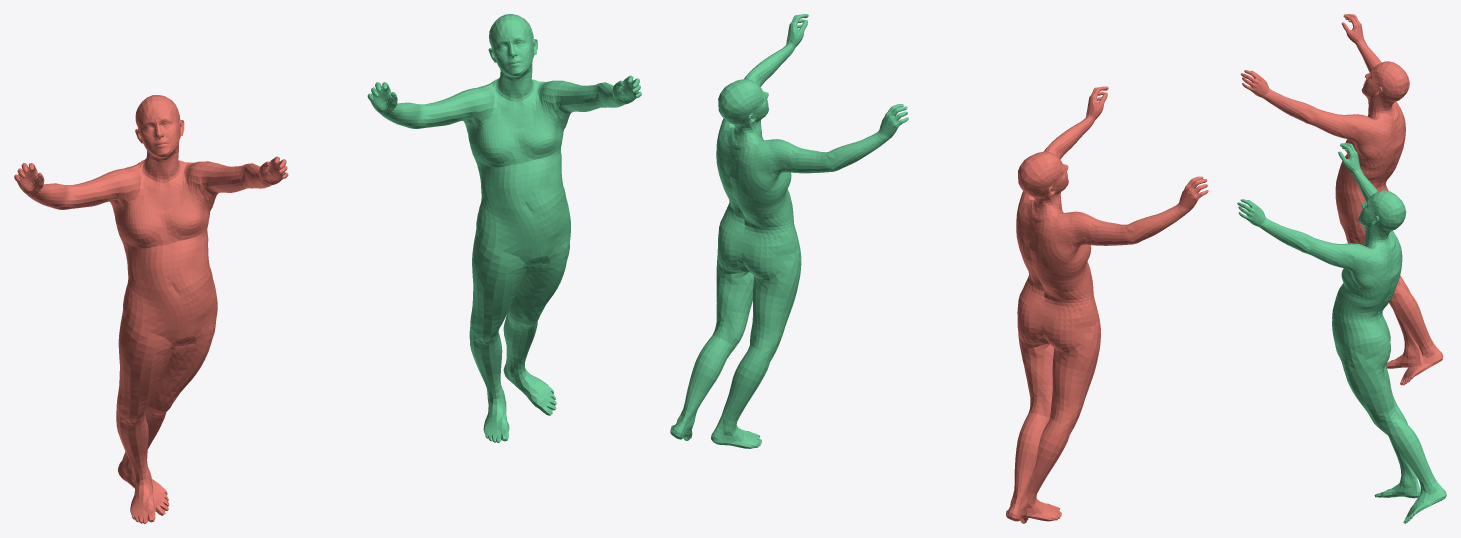
File: pose_422_before_after.glb
3 views of the same model, side by side, from view 1: azimuth 30°, elevation 25°; view 2: azimuth 150°, elevation 25°; view 3: azimuth 270°, elevation 25° (orthographic). The views are drawn at different scales.
Parts seen in each view (by area): view 1: poseshield_green, input_red; view 2: poseshield_green, input_red; view 3: poseshield_green, input_red.
Boxes of the visible parts, left/top/right/bottom form: poseshield_green: left=367, top=14, right=641, bottom=442; input_red: left=14, top=95, right=288, bottom=523; poseshield_green: left=670, top=14, right=908, bottom=448; input_red: left=1006, top=86, right=1208, bottom=523; poseshield_green: left=1237, top=143, right=1446, bottom=523; input_red: left=1240, top=14, right=1443, bottom=385.
Size of what is drawn, in the model's own units: 2.43 by 1.73 by 1.03.
